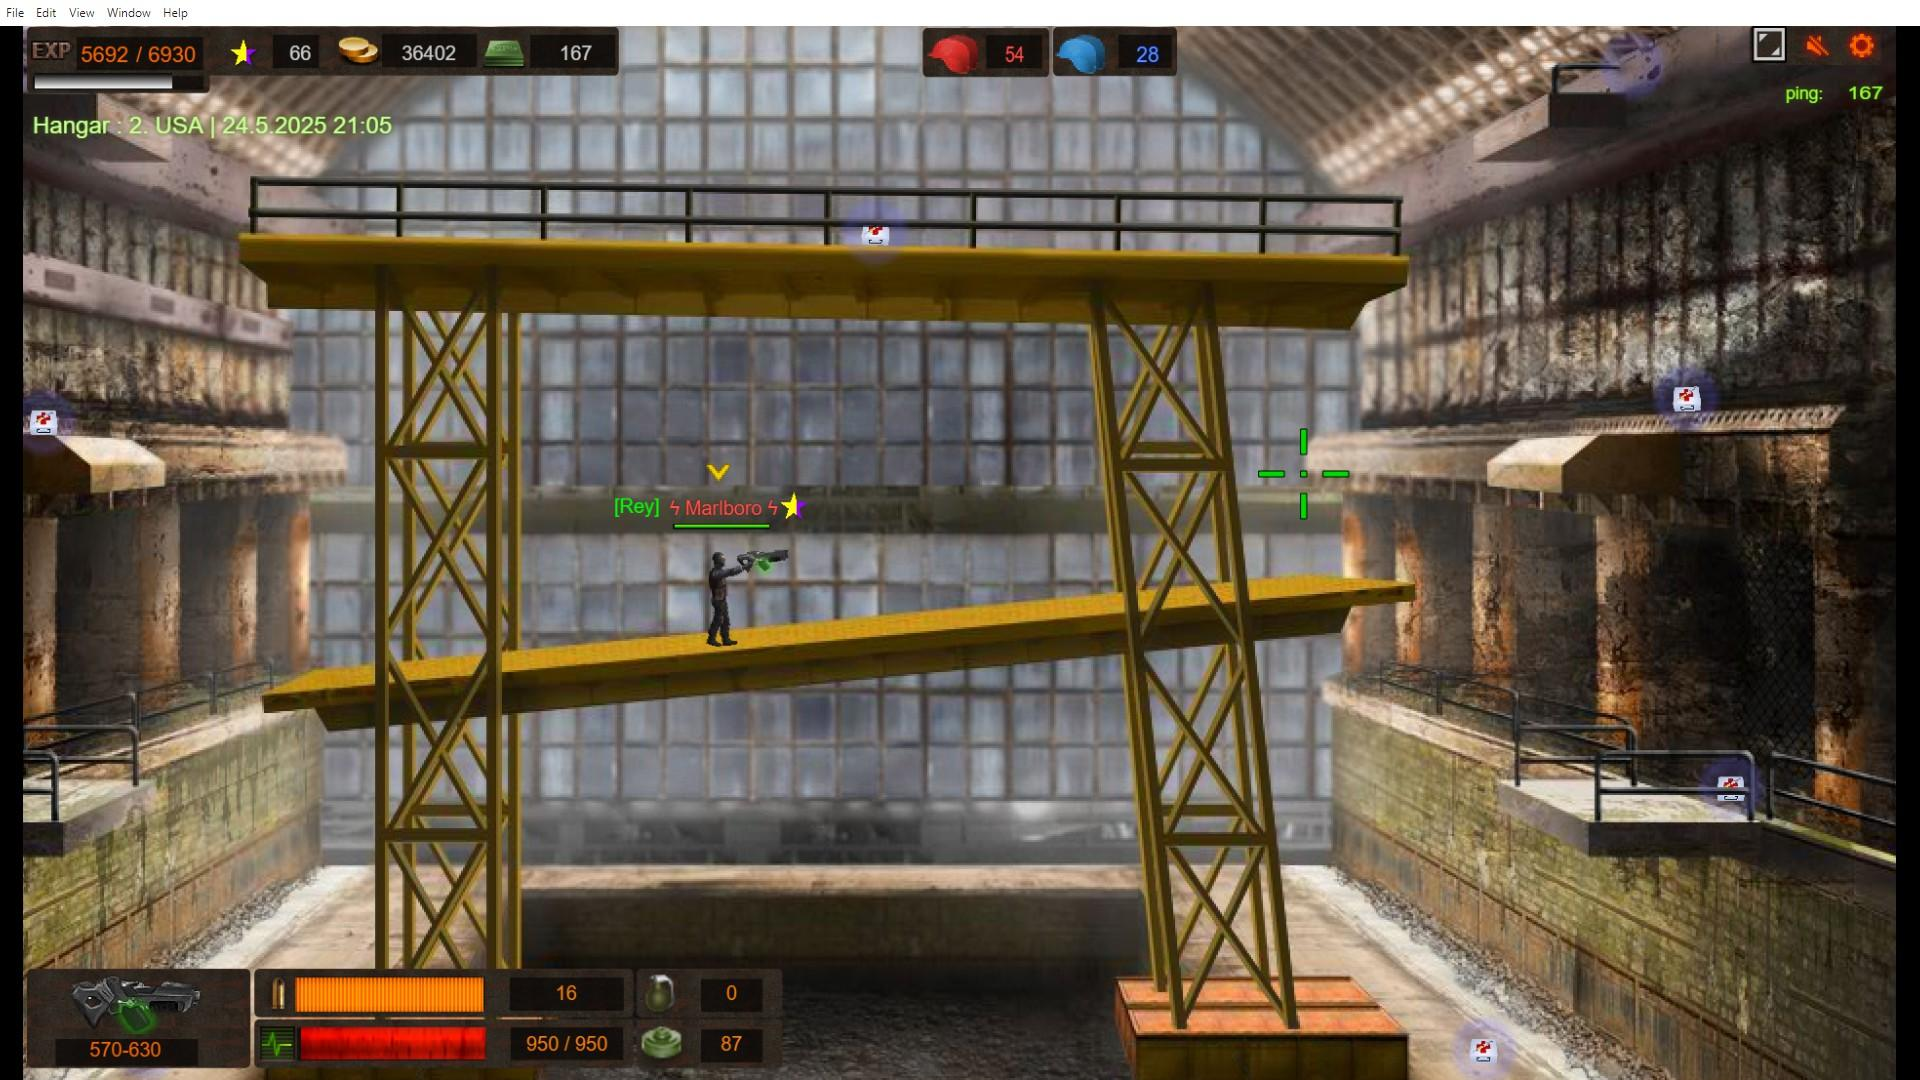enemy: (708, 551, 732, 646)
